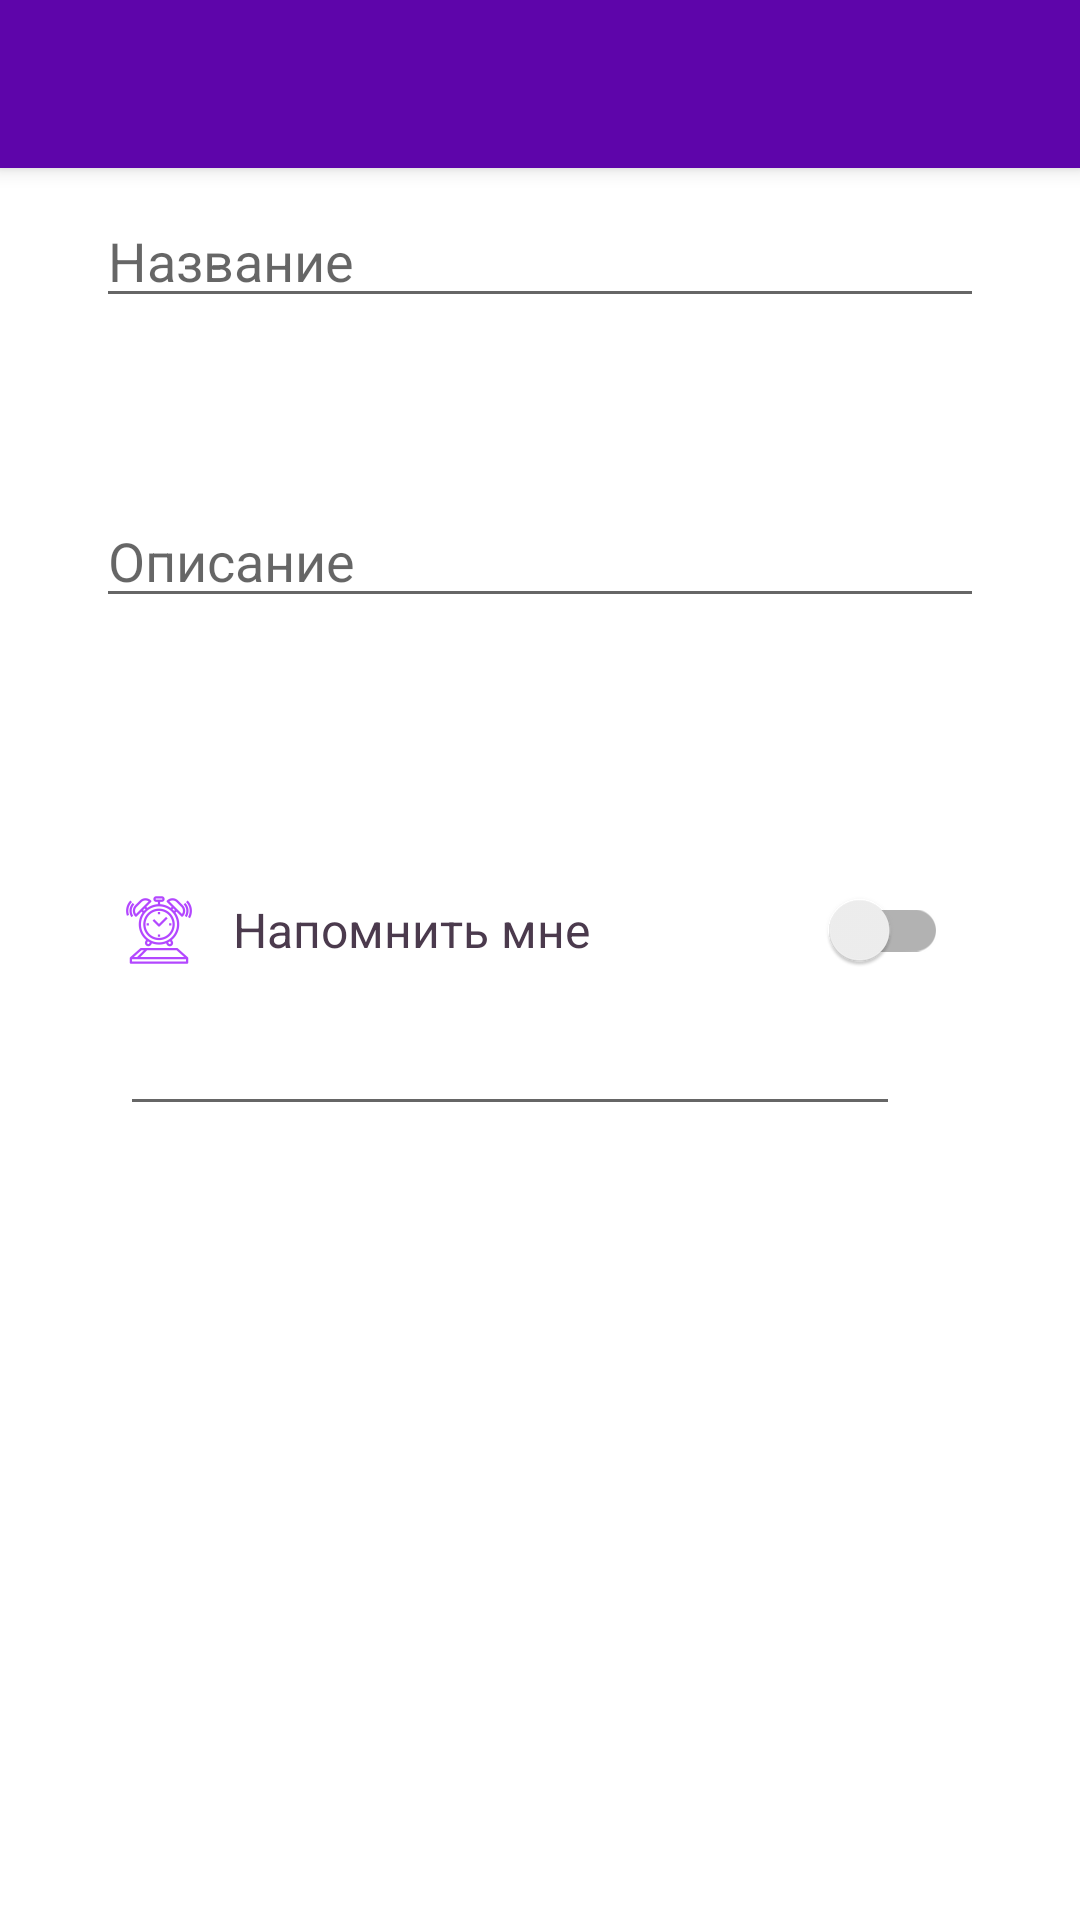

Icon bounding boxes for this 1080 x 1920 phone screenshot, format (x1, y1, x2, y2):
alarm: (126, 896, 192, 964)
